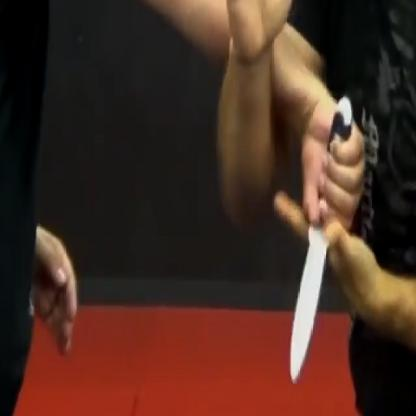knife: (284, 89, 368, 396)
